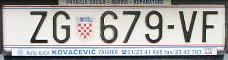-: (168, 24, 175, 28)
6: (100, 10, 117, 43)
7: (123, 11, 141, 43)
9: (145, 11, 162, 43)
F: (202, 11, 218, 42)
G: (53, 11, 70, 43)
V: (178, 11, 197, 43)
Z: (29, 10, 48, 43)
